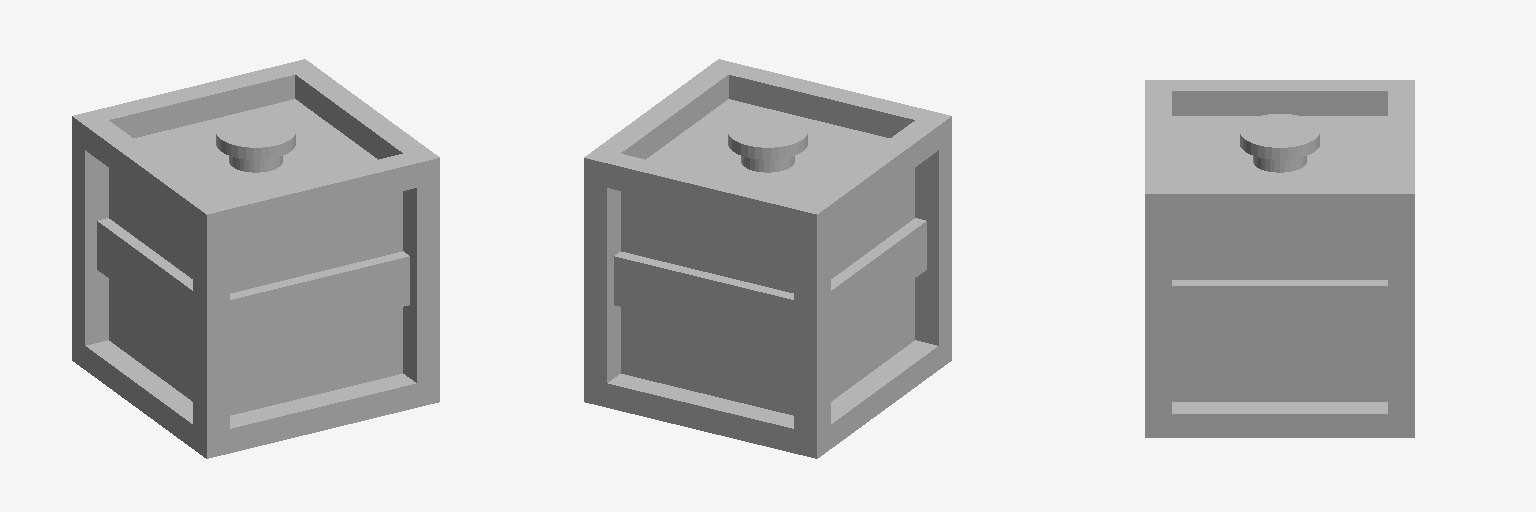
The model's file is FireExtinguisher.obj.
3 renders of one model, left to right at view 1: azimuth 30°, elevation 25°; view 2: azimuth 150°, elevation 25°; view 3: azimuth 270°, elevation 25°, orthographic.
Parts seen in each view (by area): view 1: Cube; view 2: Cube; view 3: Cube.
Boxes of the visible parts, x1,y1,x2,y2 form: Cube: [72, 59, 439, 458]; Cube: [584, 59, 951, 458]; Cube: [1145, 80, 1414, 437].
Size of the model in its own units: 1 by 1.02 by 1.